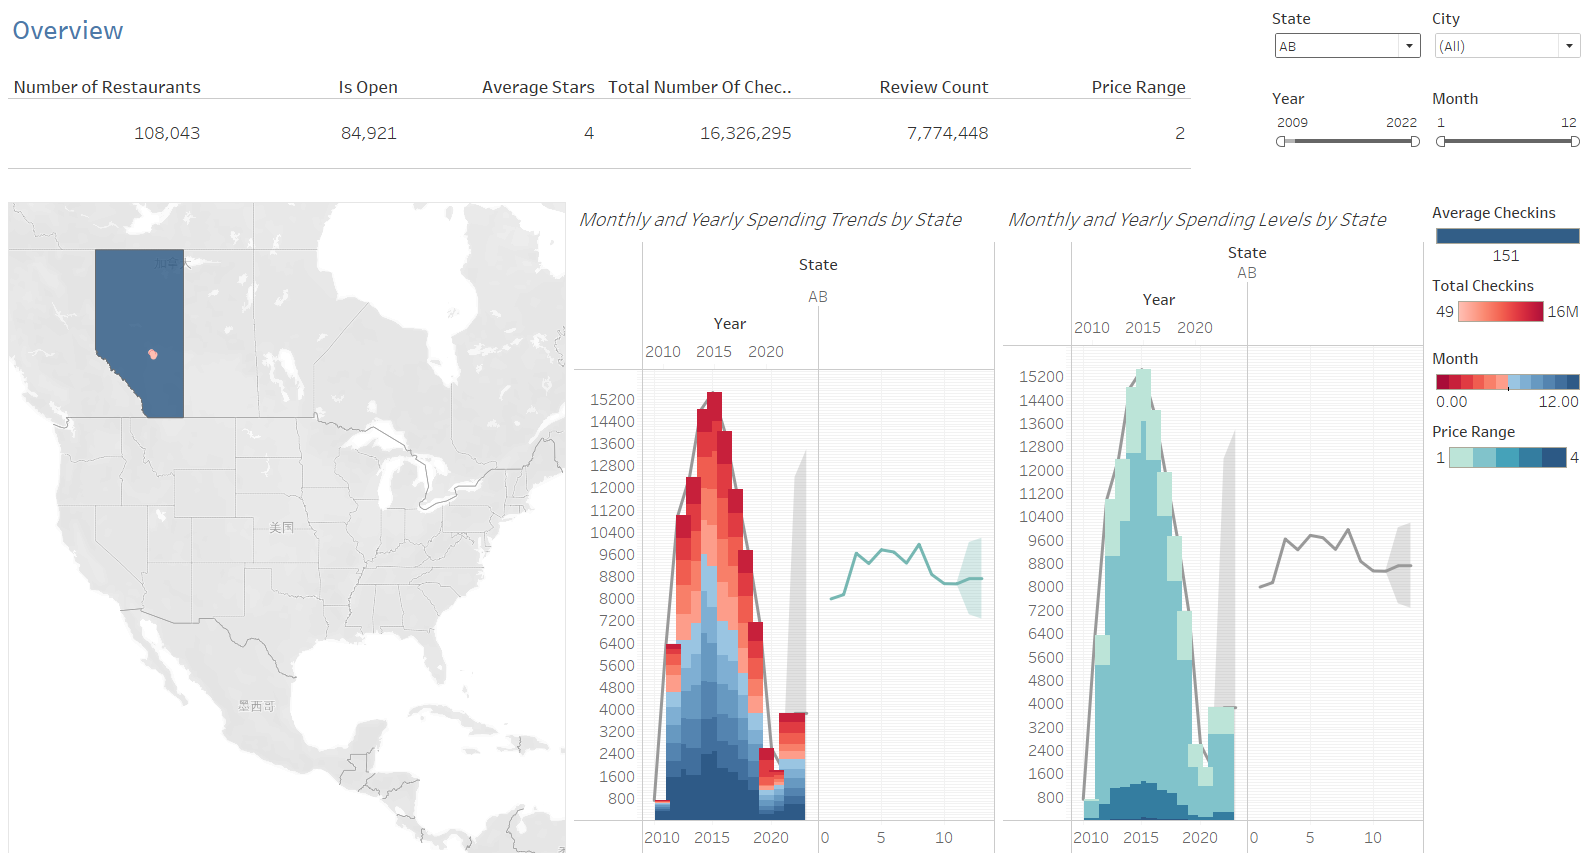

This screenshot's page, from the dashboard's own definition file:
{"tool":"tableau","page":{"name":"Overview","canvas":[1600,900],"ordinal":0},"visuals":[{"type":"worksheet","title":"Overview Table (2)","mark":"Automatic","box":[8,8,1264,194]},{"type":"filter","title":"Map","param":"[federated.04s5m5o0ixxofv187frpv17251t0].[none:state:nk]","box":[1272,8,160,80]},{"type":"filter","title":"Map","param":"[federated.04s5m5o0ixxofv187frpv17251t0].[none:city:nk]","box":[1432,8,160,80]},{"type":"filter","title":"Monthly and Yearly Spending Trends by State","param":"[federated.04s5m5o0ixxofv187frpv17251t0].[none:year:qk]","box":[1272,88,160,114]},{"type":"filter","title":"Monthly and Yearly Spending Levels by State","param":"[federated.04s5m5o0ixxofv187frpv17251t0].[none:month:qk]","box":[1432,88,160,114]},{"type":"worksheet","title":"Map","mark":"Multipolygon","box":[8,202,566,690]},{"type":"worksheet","title":"Monthly and Yearly Spending Trends by State","mark":"Automatic","rows":["business_id"],"cols":["state","year","year","month"],"box":[574,202,429,690]},{"type":"worksheet","title":"Monthly and Yearly Spending Levels by State","mark":"Automatic","rows":["business_id"],"cols":["state","year","year","month"],"box":[1003,202,429,690]},{"type":"legend","title":"Map","param":"[federated.04s5m5o0ixxofv187frpv17251t0].[avg:total_number_of_checkin:qk]","box":[1432,202,160,73]},{"type":"legend","title":"Map","param":"[federated.04s5m5o0ixxofv187frpv17251t0].[sum:total_number_of_checkin:qk]","box":[1432,275,160,73]},{"type":"legend","title":"Monthly and Yearly Spending Trends by State","param":"[federated.04s5m5o0ixxofv187frpv17251t0].[none:month:qk]","box":[1432,348,160,73]},{"type":"legend","title":"Monthly and Yearly Spending Levels by State","param":"[federated.04s5m5o0ixxofv187frpv17251t0].[none:RestaurantsPriceRange2:qk]","box":[1432,421,160,73]}]}

Visuals, with their boxes on the page's 1600x900 design canvas (x1, y1, x2, y2). These are canvas units, not pixel positions in the 1592x853 screenshot, which may show the page scaled, cropped or inside an application window:
"Overview Table (2)" worksheet: x1=8 y1=8 x2=1272 y2=202
"Map" filter: x1=1272 y1=8 x2=1432 y2=88
"Map" filter: x1=1432 y1=8 x2=1592 y2=88
"Monthly and Yearly Spending Trends by State" filter: x1=1272 y1=88 x2=1432 y2=202
"Monthly and Yearly Spending Levels by State" filter: x1=1432 y1=88 x2=1592 y2=202
"Map" worksheet (Multipolygon marks): x1=8 y1=202 x2=574 y2=892
"Monthly and Yearly Spending Trends by State" worksheet: x1=574 y1=202 x2=1003 y2=892
"Monthly and Yearly Spending Levels by State" worksheet: x1=1003 y1=202 x2=1432 y2=892
"Map" legend: x1=1432 y1=202 x2=1592 y2=275
"Map" legend: x1=1432 y1=275 x2=1592 y2=348
"Monthly and Yearly Spending Trends by State" legend: x1=1432 y1=348 x2=1592 y2=421
"Monthly and Yearly Spending Levels by State" legend: x1=1432 y1=421 x2=1592 y2=494
